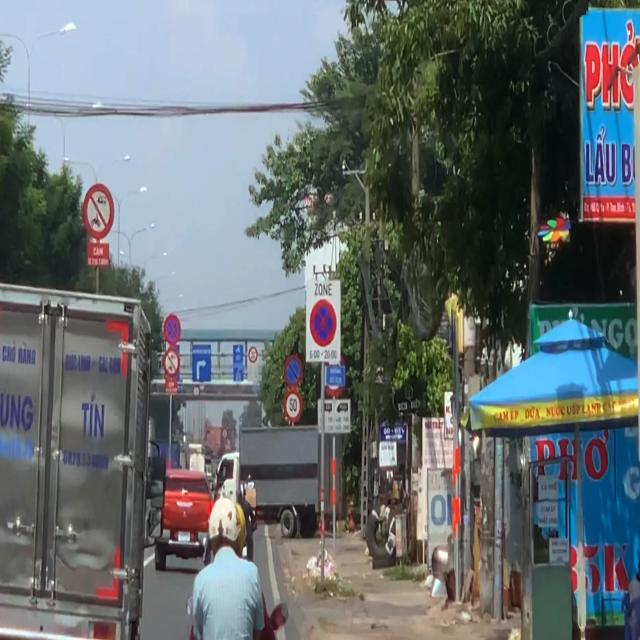Cam con lai: (82, 184, 115, 242), (161, 347, 180, 376)
Cam do: (282, 355, 304, 388)
Cam dung va do: (309, 298, 338, 348), (164, 314, 182, 346)
Toc do toi da: (284, 388, 304, 422)
